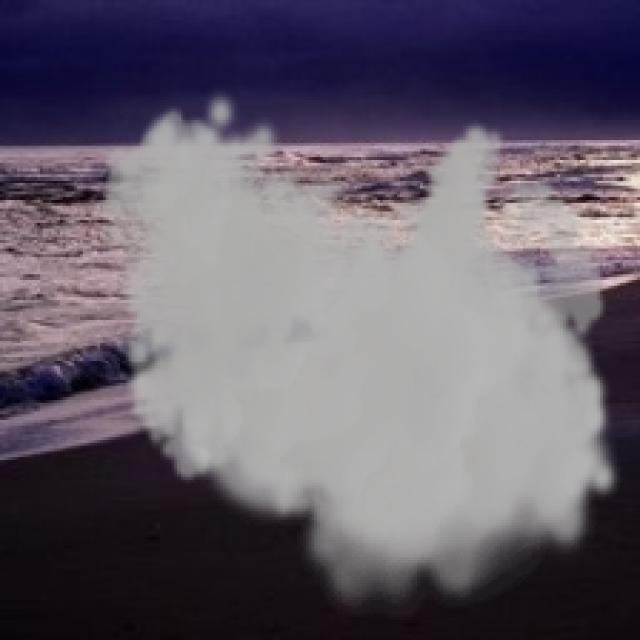smoke: (97, 89, 623, 620)
